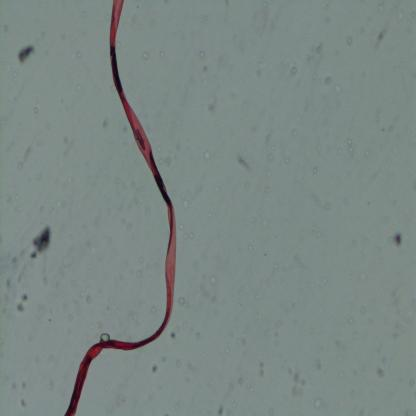Background material: (304, 40, 327, 78), (30, 221, 52, 251), (289, 369, 309, 400), (233, 153, 257, 176), (369, 22, 386, 50), (17, 44, 36, 63), (13, 294, 30, 313), (173, 292, 191, 309), (375, 98, 385, 124), (158, 152, 173, 168), (371, 363, 387, 378), (24, 142, 36, 161), (205, 97, 219, 113), (391, 288, 401, 310), (346, 139, 356, 160), (60, 137, 71, 155), (38, 270, 50, 286), (213, 399, 224, 416), (2, 275, 15, 289), (258, 360, 268, 378), (393, 233, 404, 249), (357, 270, 368, 286), (72, 279, 83, 295), (320, 13, 334, 25), (9, 256, 20, 270), (376, 2, 388, 14), (101, 117, 112, 130), (210, 272, 219, 287), (99, 332, 111, 343), (69, 50, 82, 60), (18, 396, 28, 408), (314, 397, 324, 409), (290, 64, 300, 76), (201, 62, 210, 75), (314, 357, 322, 371), (77, 7, 87, 18), (202, 152, 212, 163), (28, 252, 40, 261), (355, 302, 364, 314), (236, 374, 245, 386), (156, 49, 166, 59), (229, 397, 238, 408), (335, 82, 342, 96), (142, 51, 151, 61), (130, 180, 139, 190), (334, 146, 344, 155), (126, 221, 134, 232), (20, 378, 27, 390), (144, 206, 151, 218), (31, 105, 40, 114), (395, 12, 404, 21), (245, 244, 254, 253), (265, 170, 273, 180), (237, 336, 245, 346), (149, 366, 159, 374), (324, 202, 332, 212), (202, 10, 209, 21), (151, 304, 158, 315), (198, 49, 205, 60), (346, 316, 355, 324), (75, 300, 80, 314), (10, 381, 17, 391), (10, 68, 18, 76), (188, 232, 196, 240), (345, 38, 353, 46), (178, 222, 186, 230), (310, 166, 319, 173), (135, 270, 142, 279), (86, 294, 92, 304), (324, 78, 334, 84), (170, 332, 178, 339), (274, 321, 282, 328), (364, 149, 370, 158), (183, 201, 188, 211), (2, 26, 10, 32), (243, 184, 251, 190), (380, 127, 387, 133), (181, 233, 189, 238), (134, 200, 141, 205), (18, 165, 24, 170), (286, 158, 291, 164), (269, 156, 274, 162), (264, 189, 269, 194)
Cotton: (61, 0, 177, 414)
